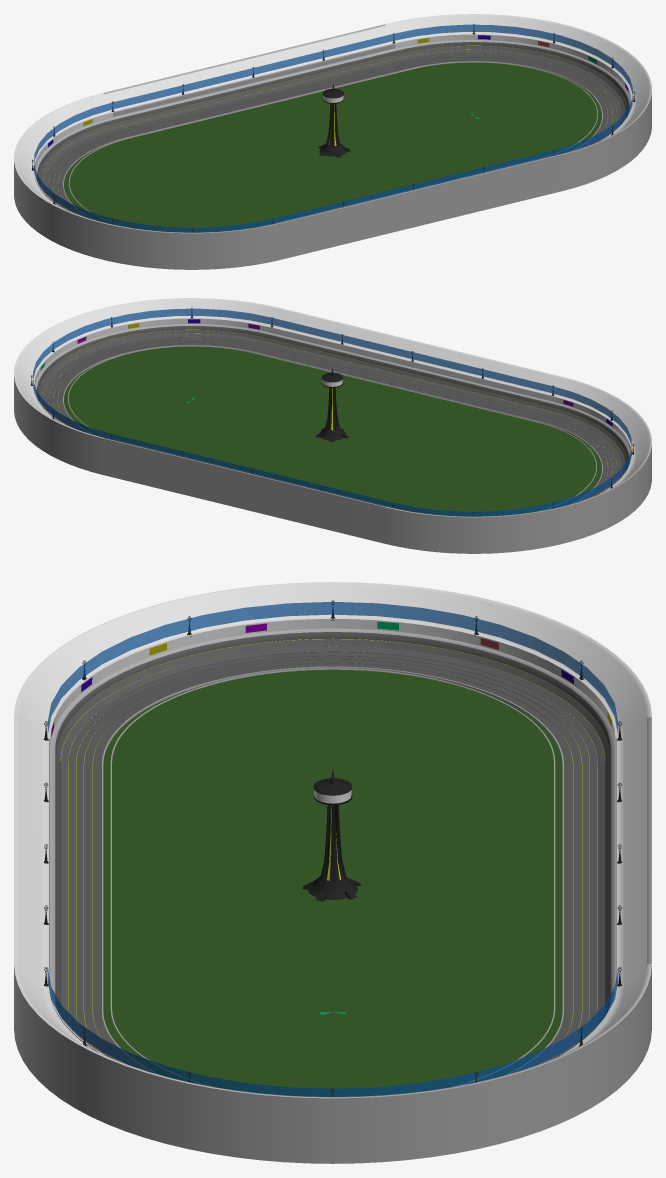
File: BulletHell_TrackPill.fbx
3 renders of one model, top to bottom at view 1: azimuth 30°, elevation 25°; view 2: azimuth 150°, elevation 25°; view 3: azimuth 270°, elevation 25°, orthographic. The views are drawn at different scales.
Parts seen in each view (by area): view 1: polySurface59, barrier, rail1, towerCenter; view 2: polySurface59, barrier, rail1, towerCenter; view 3: polySurface59, barrier, towerCenter, rail1.
Boxes of the visible parts, bbox=[...] form: polySurface59: bbox=[14, 14, 651, 269]; barrier: bbox=[34, 24, 632, 232]; rail1: bbox=[69, 61, 597, 226]; towerCenter: bbox=[318, 83, 350, 157]; polySurface59: bbox=[14, 298, 651, 553]; barrier: bbox=[33, 308, 631, 516]; rail1: bbox=[68, 345, 596, 510]; towerCenter: bbox=[315, 367, 348, 441]; polySurface59: bbox=[14, 582, 651, 1163]; barrier: bbox=[47, 601, 618, 1096]; towerCenter: bbox=[302, 769, 361, 901]; rail1: bbox=[110, 668, 555, 1086].
Bounding box in the file's own units: 97.6 × 12.18 × 50.97.
